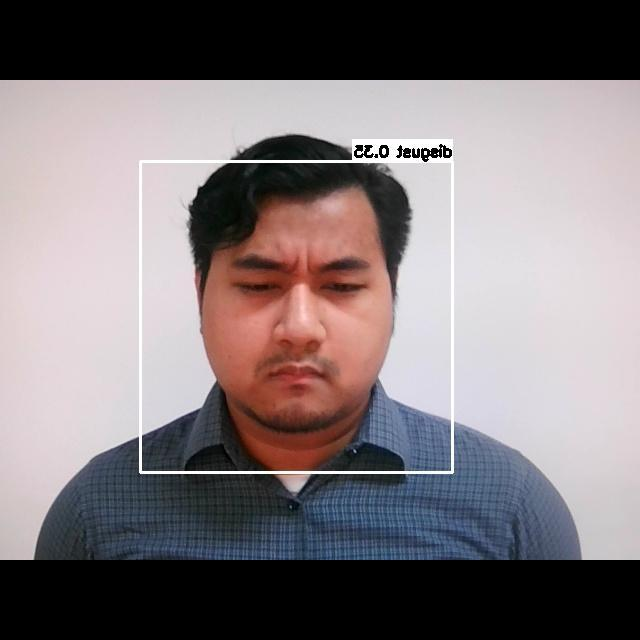Angry: (204, 212, 392, 392)
